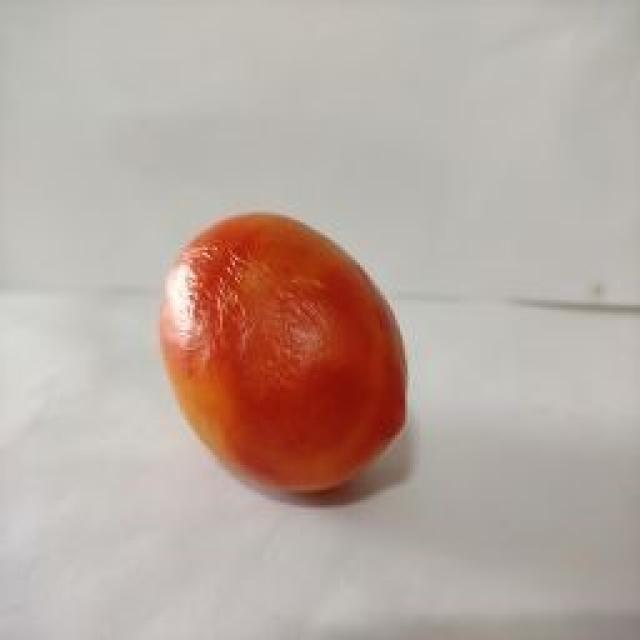overripe: (154, 209, 416, 503)
